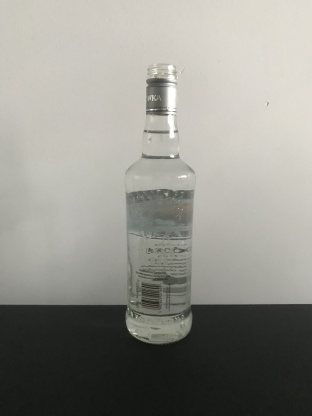nakretka: (143, 61, 179, 116)
